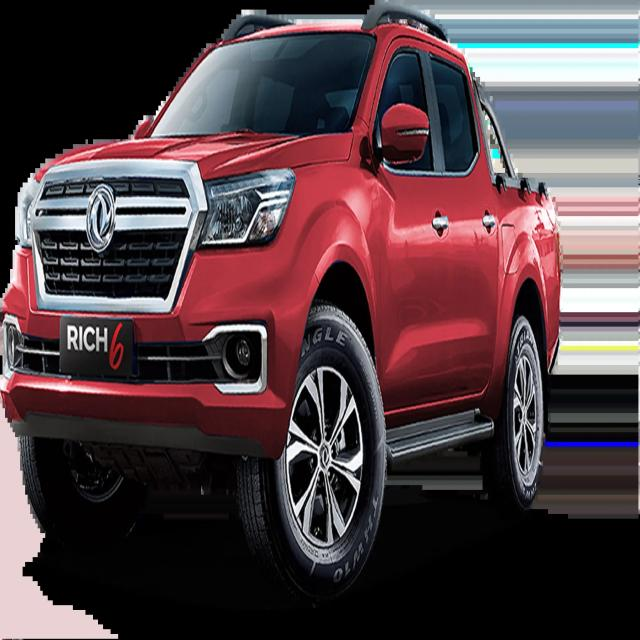CMT: (0, 3, 564, 578)
